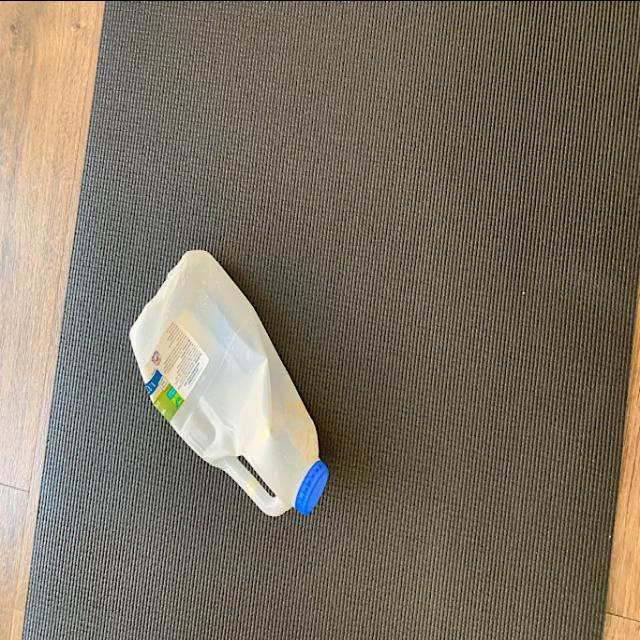HDPEM: (130, 248, 332, 522)
